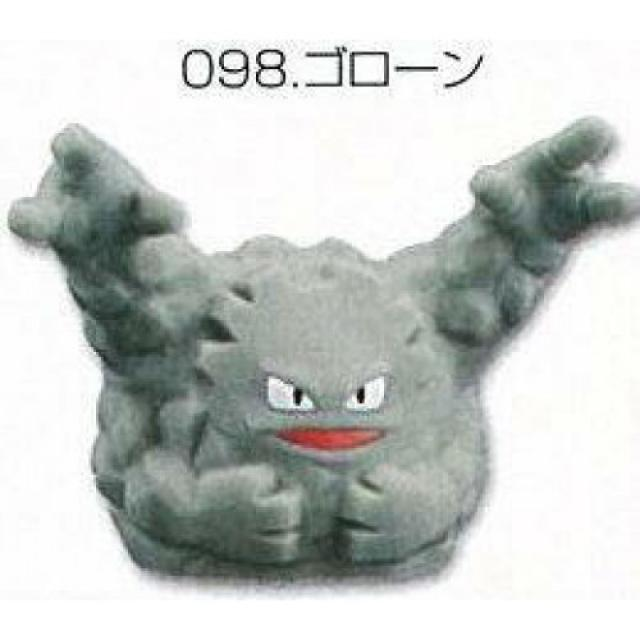Graveler: (9, 113, 640, 592)
